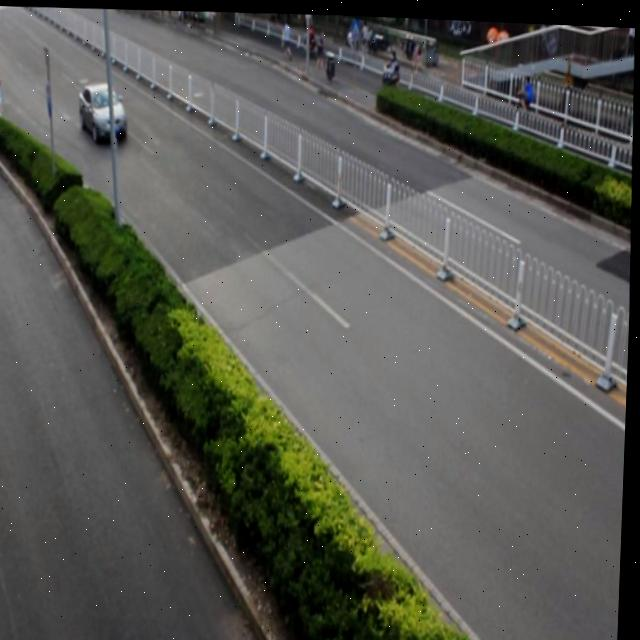car: (79, 81, 129, 143)
